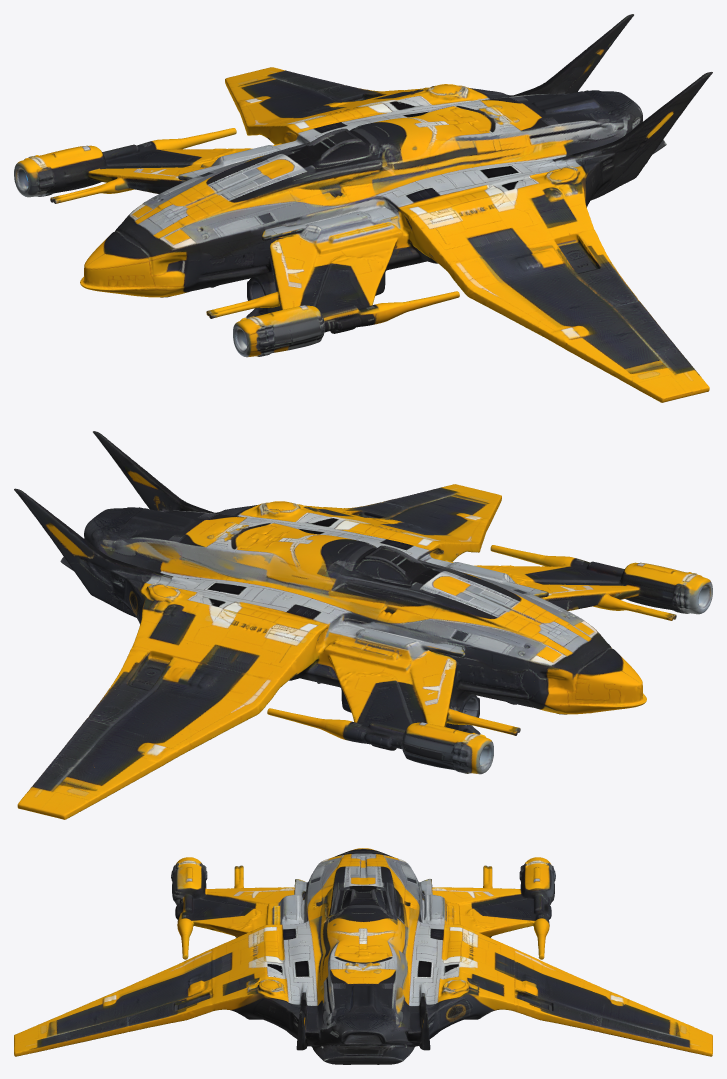
File: Bomber_Leviathan Tick_lod2.glb
The picture shows the model from 3 angles, top to bottom: view 1: azimuth 30°, elevation 25°; view 2: azimuth 150°, elevation 25°; view 3: azimuth 270°, elevation 25°; orthographic projection. The views are drawn at different scales.
Size of the model in its own units: 1.48 by 0.3458 by 1.9.
Materials: 1 (1 with a texture image).
